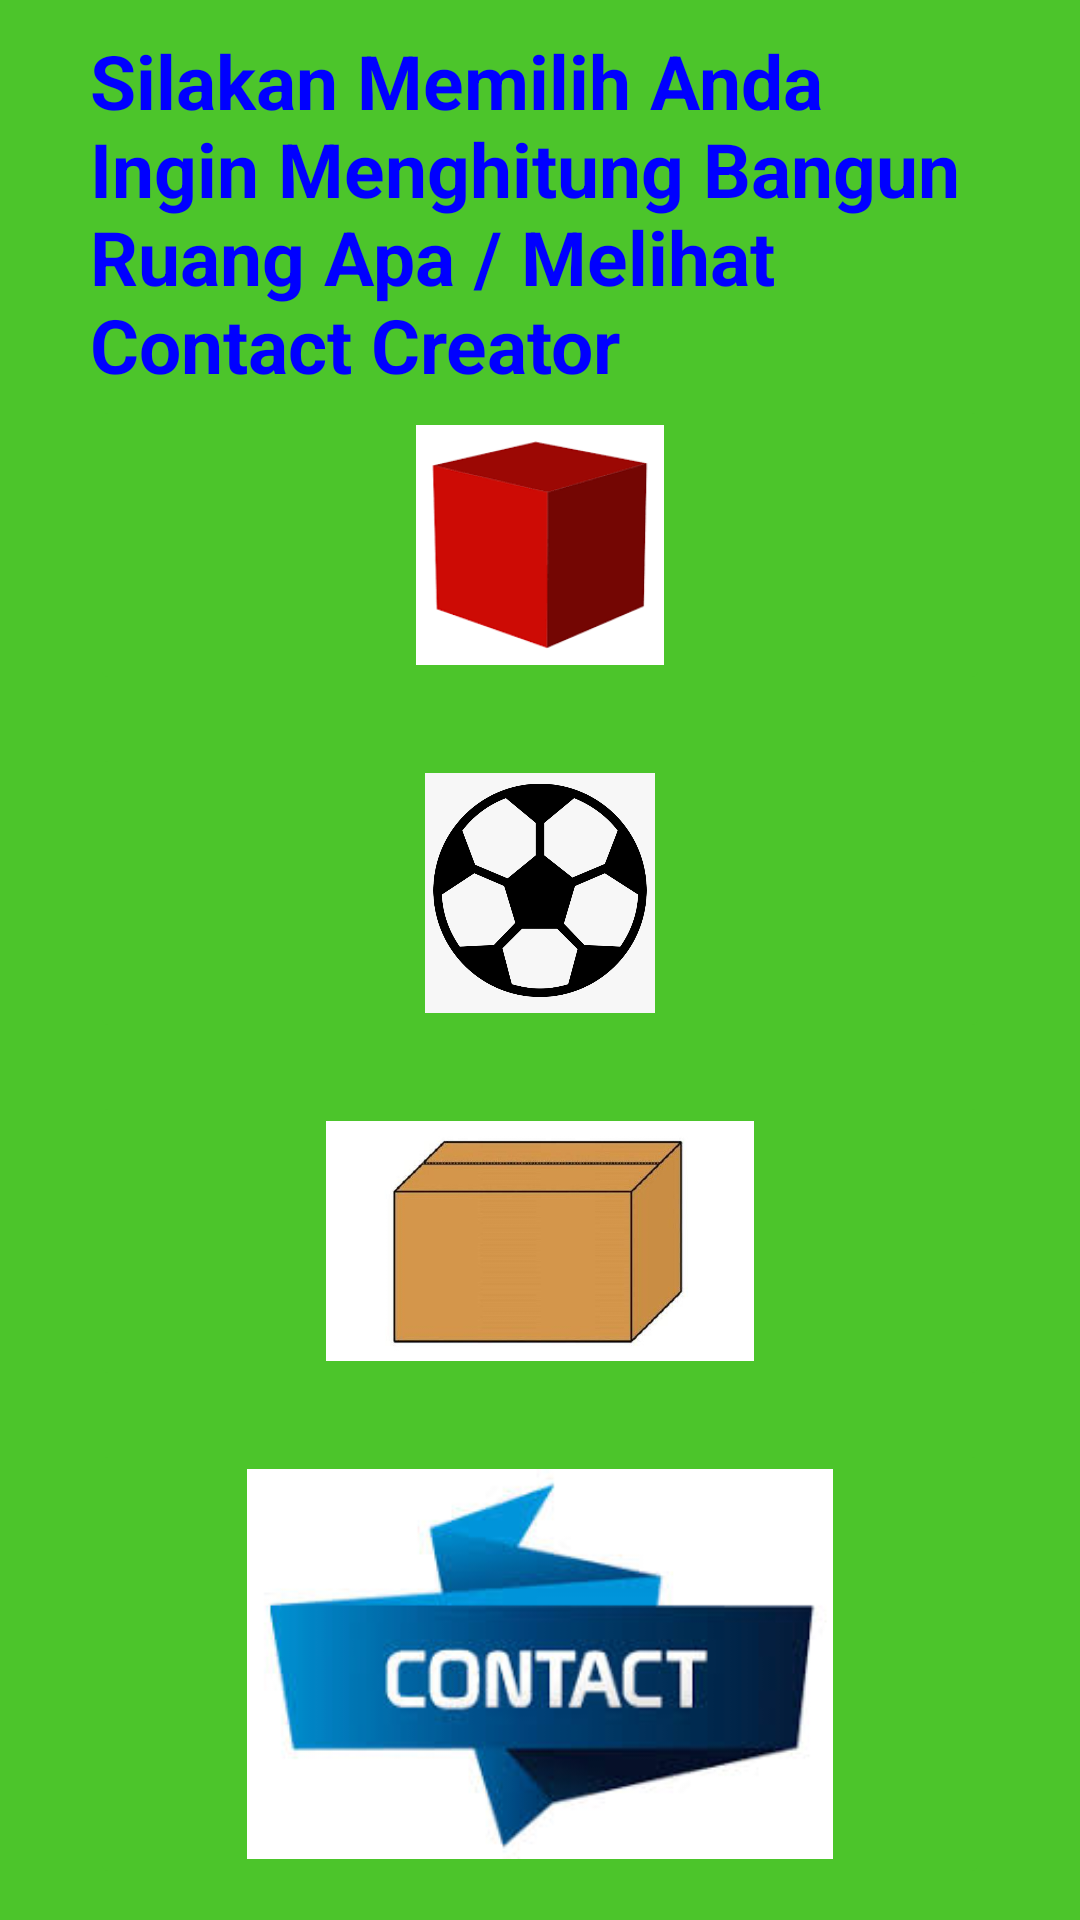

Where to tap for icons on this 1080x1920 app screen, as point (x, y):
ball: point (540, 893)
cube: point (540, 545)
